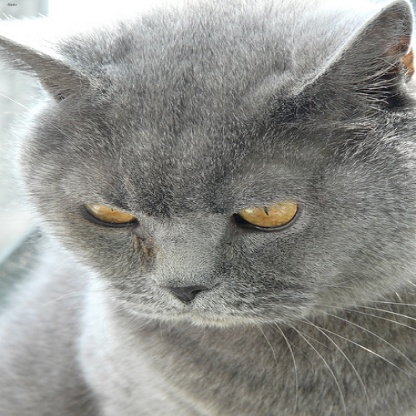british_shorthair: (1, 2, 416, 413)
